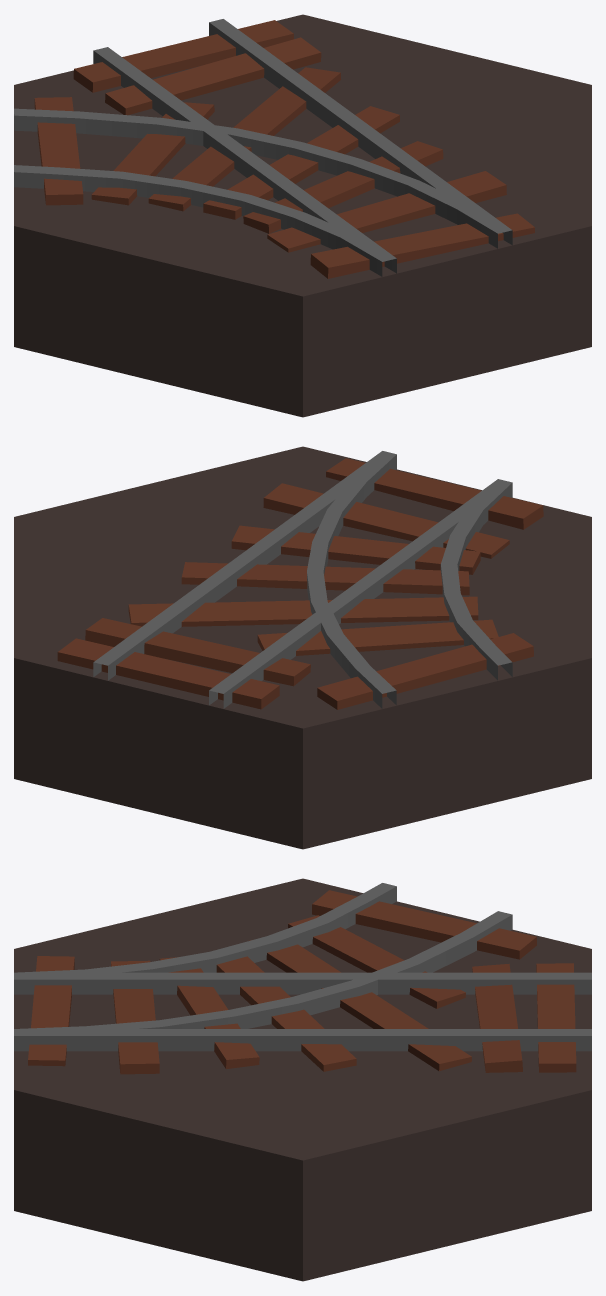
File: Railway_3.fbx
The picture shows the model from 3 angles, top to bottom: view 1: azimuth 30°, elevation 25°; view 2: azimuth 150°, elevation 25°; view 3: azimuth 270°, elevation 25°; orthographic projection.
Visible parts, largest first — view 1: polySurface867; view 2: polySurface867; view 3: polySurface867.
Boxes of the visible parts, left/top/right/bottom form: polySurface867: left=14, top=14, right=591, bottom=417; polySurface867: left=14, top=446, right=591, bottom=849; polySurface867: left=14, top=878, right=591, bottom=1281.
Bounding box in the file's own units: 20 × 4.5 × 17.32.
